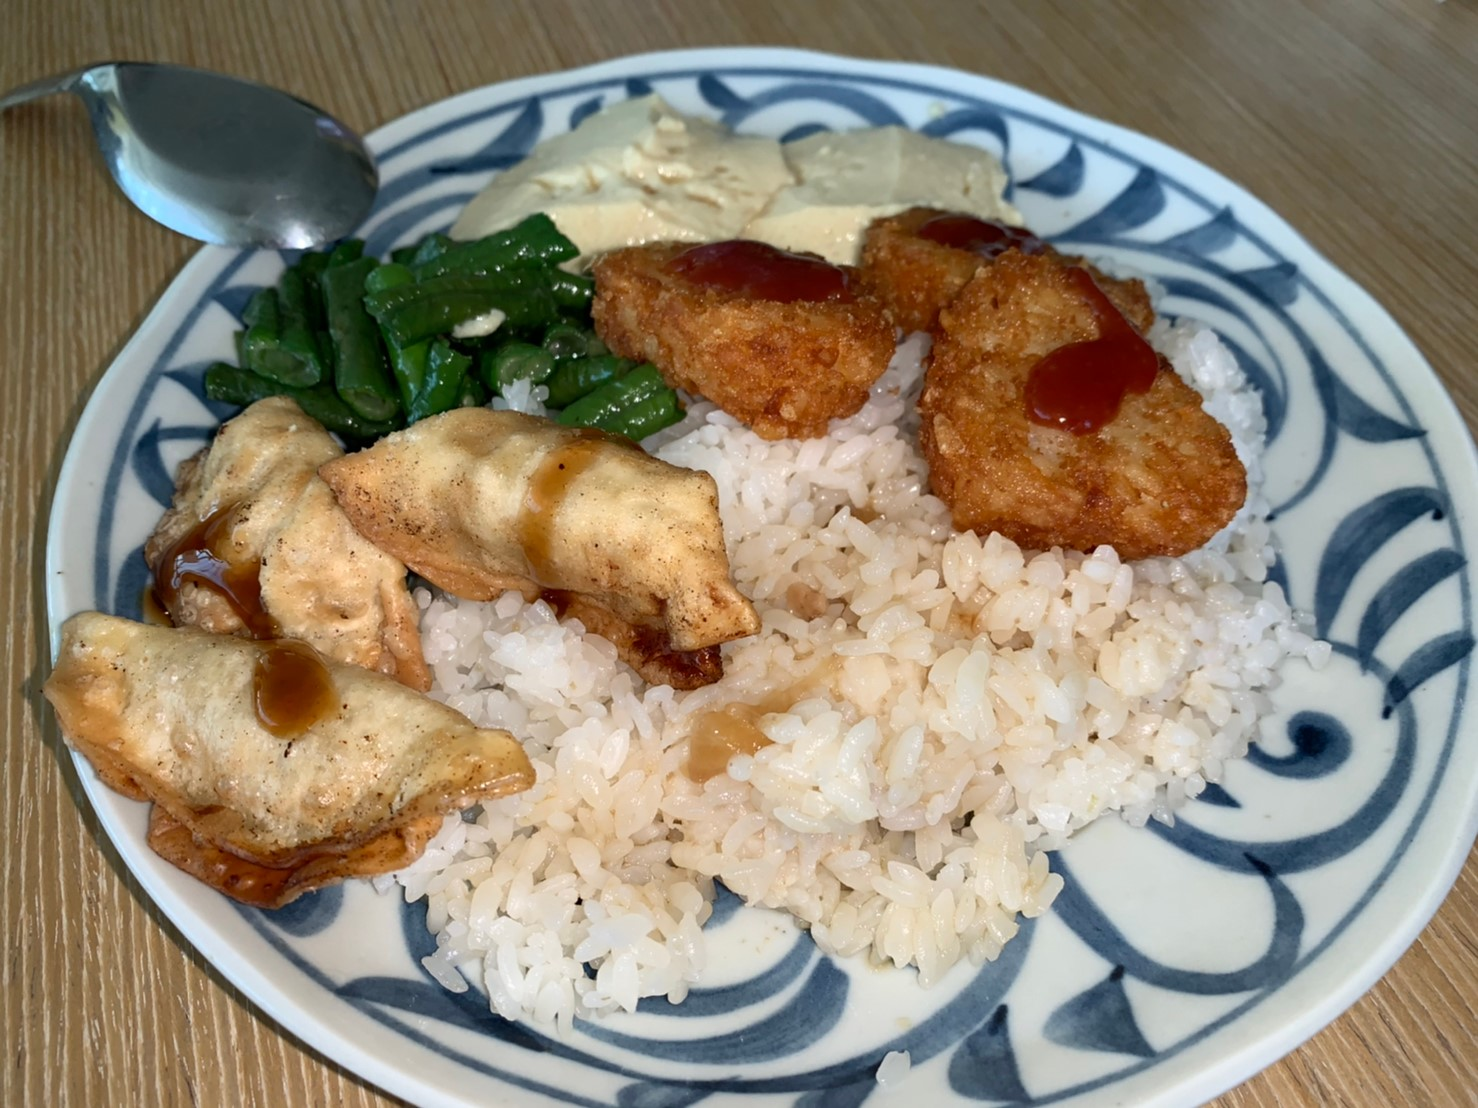rice: (505, 554, 1232, 996)
triangle_hash_brown: (595, 208, 1248, 555)
